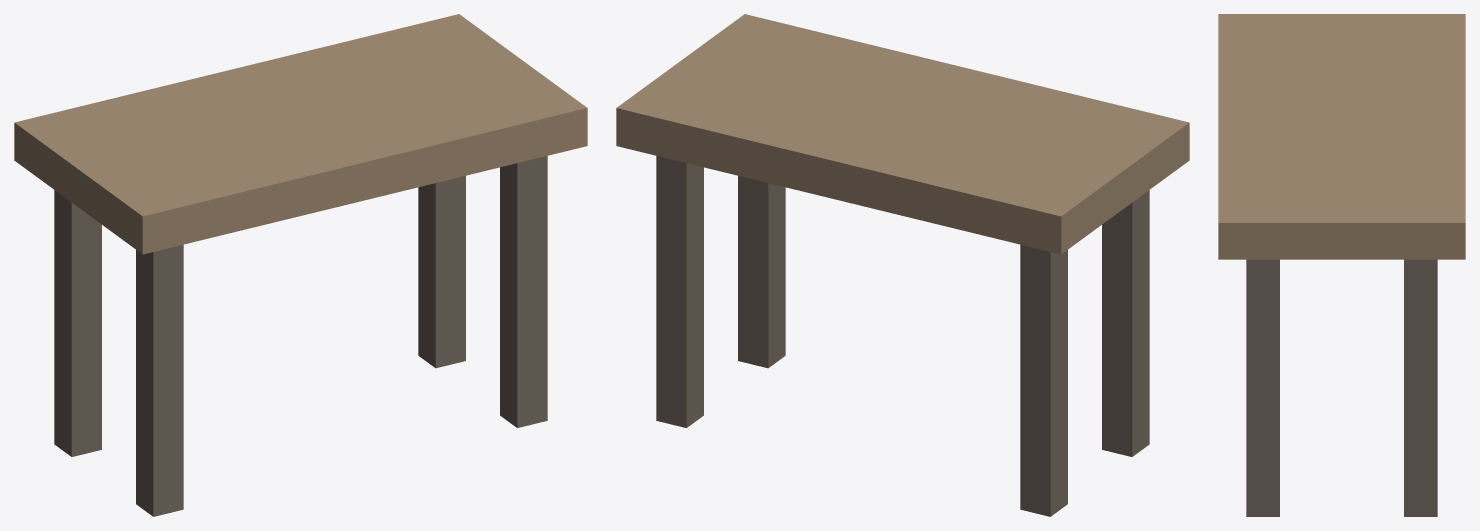
Rendered from study_desk.glb.
3 renders of one model, left to right at view 1: azimuth 30°, elevation 25°; view 2: azimuth 150°, elevation 25°; view 3: azimuth 270°, elevation 25°, orthographic. The views are drawn at different scales.
Visible parts, largest first — view 1: body; view 2: body; view 3: body.
Part boxes in pixels (box(x1,y1,x2,y2)): body: box(14, 14, 587, 516); body: box(616, 14, 1189, 516); body: box(1218, 14, 1465, 516).
Size of the model in its own units: 1.1 by 0.75 by 0.55.
